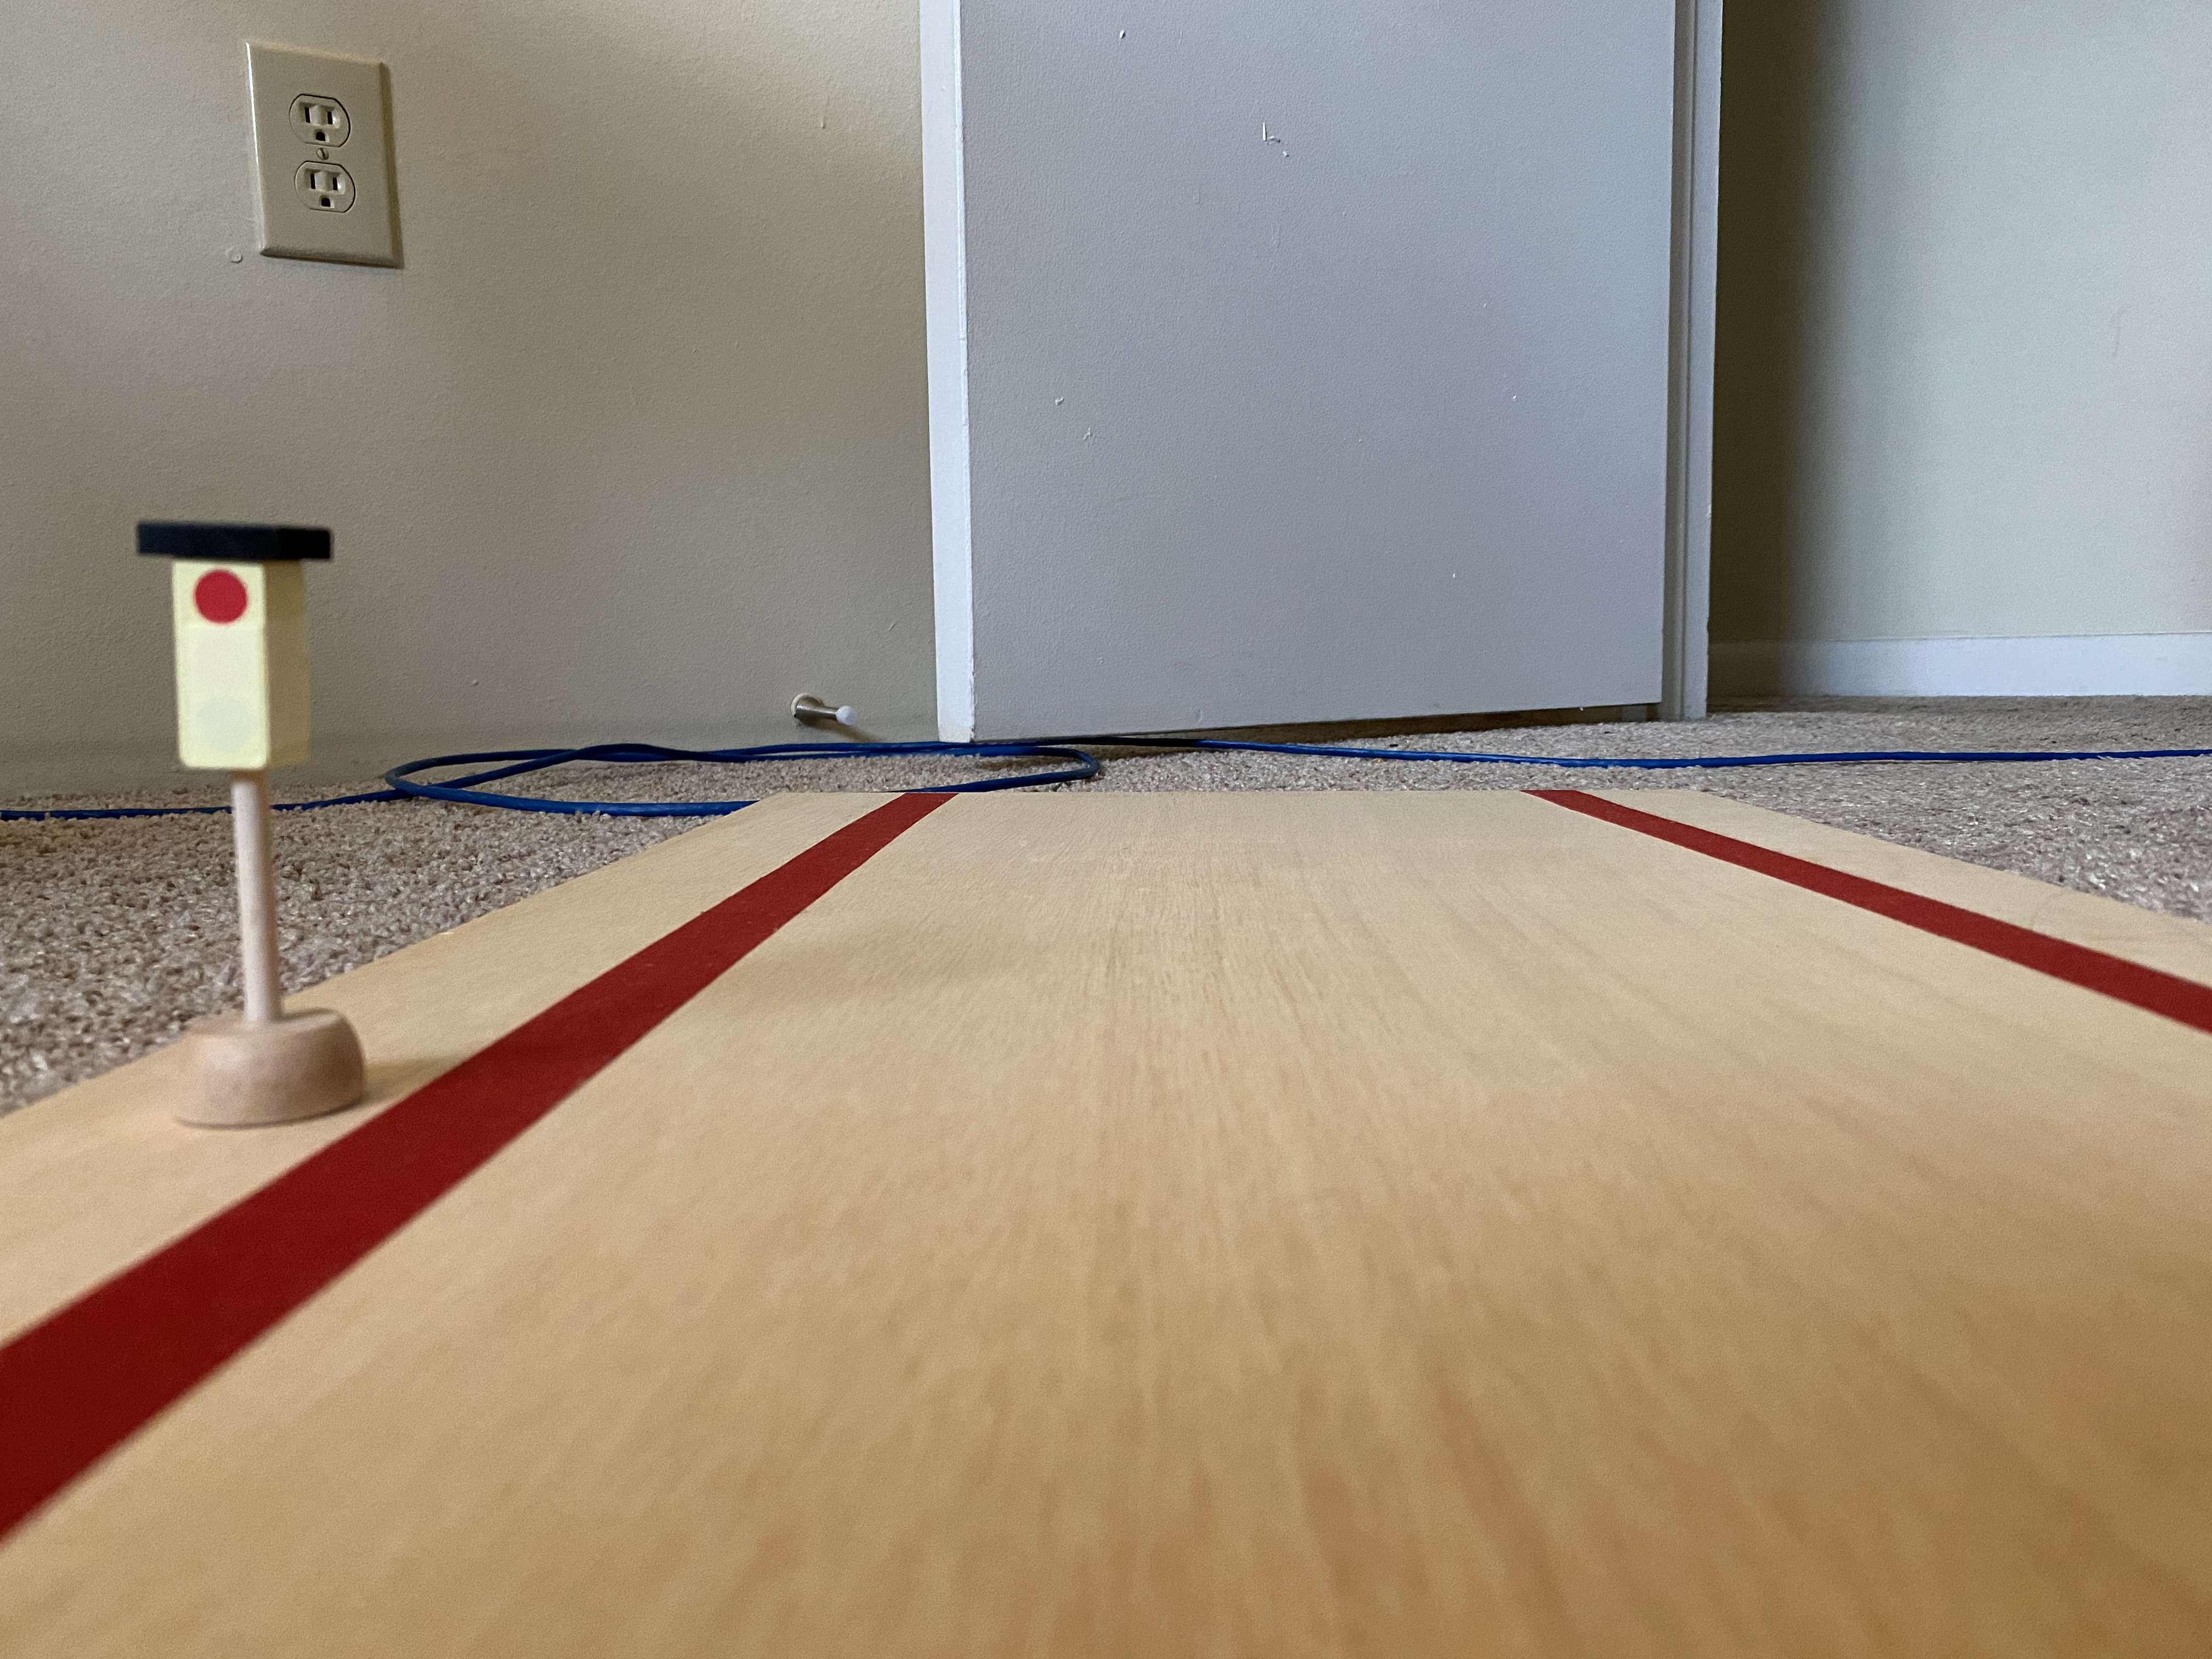Red Traffic Light: (127, 519, 327, 788)
